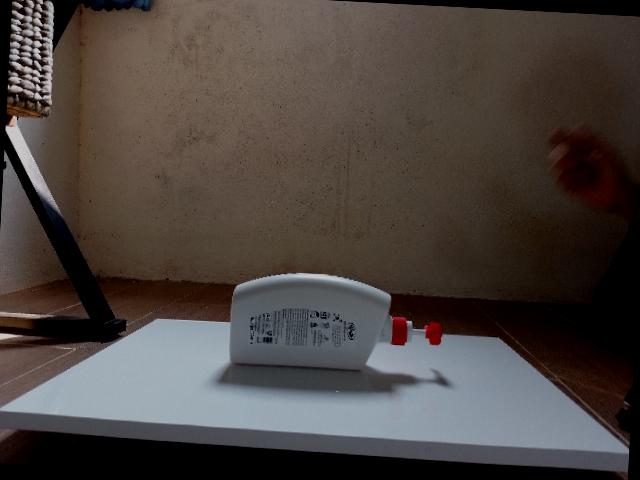life-buoy: (229, 273, 443, 371)
